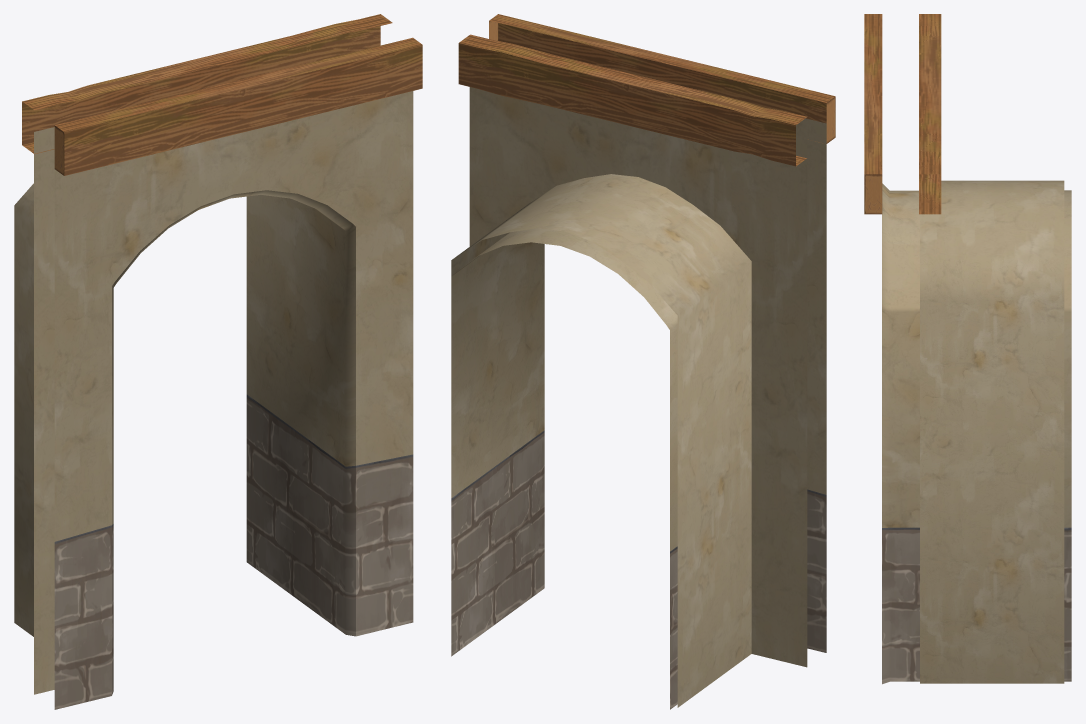
File: Wall_Plaster_Door_RoundInset.gltf
The picture shows the model from 3 angles, left to right: view 1: azimuth 30°, elevation 25°; view 2: azimuth 150°, elevation 25°; view 3: azimuth 270°, elevation 25°; orthographic projection. The views are drawn at different scales.
Parts seen in each view (by area): view 1: Wall_Plaster_Door_RoundInset; view 2: Wall_Plaster_Door_RoundInset; view 3: Wall_Plaster_Door_RoundInset.
Boxes of the visible parts, bbox=[...] form: Wall_Plaster_Door_RoundInset: bbox=[14, 14, 422, 709]; Wall_Plaster_Door_RoundInset: bbox=[451, 14, 835, 709]; Wall_Plaster_Door_RoundInset: bbox=[864, 14, 1071, 684].
Bounding box in the file's own units: 2 × 3.12 × 1.09.
3 materials, 3 textured.
